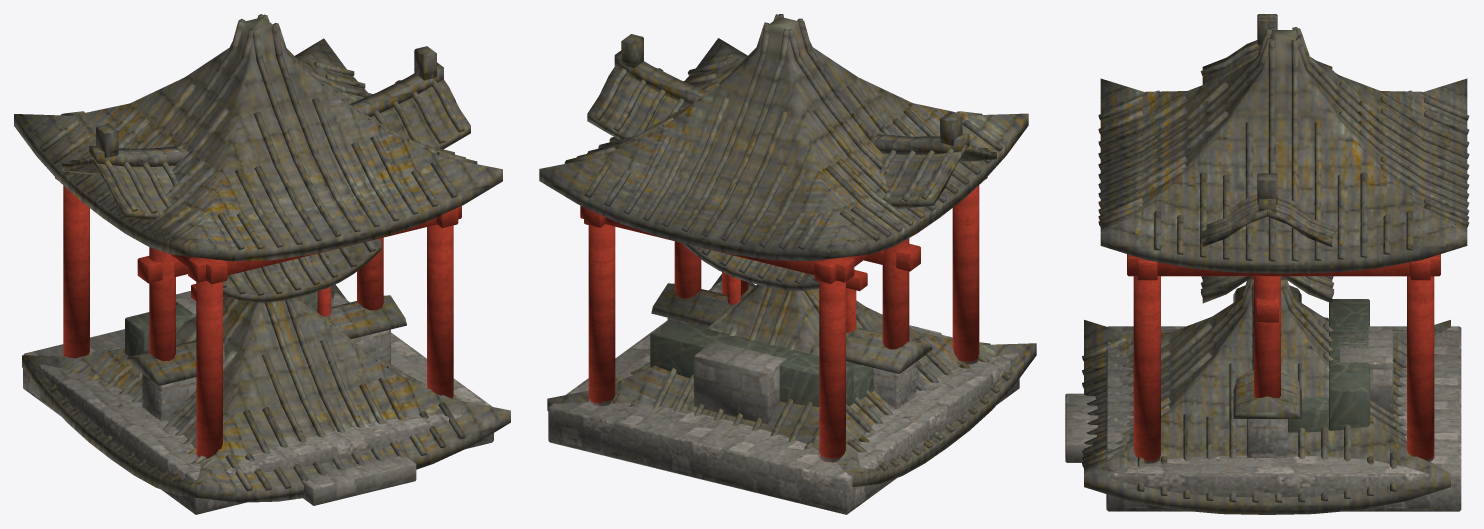
Rendered from WoodlandTemple.gltf.
3 views of the same model, side by side, from view 1: azimuth 30°, elevation 25°; view 2: azimuth 150°, elevation 25°; view 3: azimuth 270°, elevation 25° (orthographic). The views are drawn at different scales.
Visible parts, largest first — view 1: pavilion, pagodaRoof, gate, wall, bellFrame, steps; view 2: pavilion, pagodaRoof, gate, steps, wall, bellFrame; view 3: pavilion, pagodaRoof, gate, steps, wall, bellFrame.
Boxes of the visible parts, x1,y1,x2,y2 form: pavilion: (14,14,502,514); pagodaRoof: (22,284,510,502); gate: (62,46,470,360); wall: (126,295,406,420); bellFrame: (191,239,381,316); steps: (125,292,317,400); pavilion: (539,14,1028,514); pagodaRoof: (547,274,1036,486); gate: (587,34,996,349); steps: (650,320,873,406); wall: (651,283,932,408); bellFrame: (682,243,867,332); pavilion: (1065,27,1469,511); pagodaRoof: (1082,278,1450,514); gate: (1200,14,1334,397); steps: (1288,299,1369,432); wall: (1233,285,1301,457); bellFrame: (1200,276,1334,303).
Bounding box in the file's own units: 7.08 × 7.69 × 6.98.
Materials: 1 (1 with a texture image).
